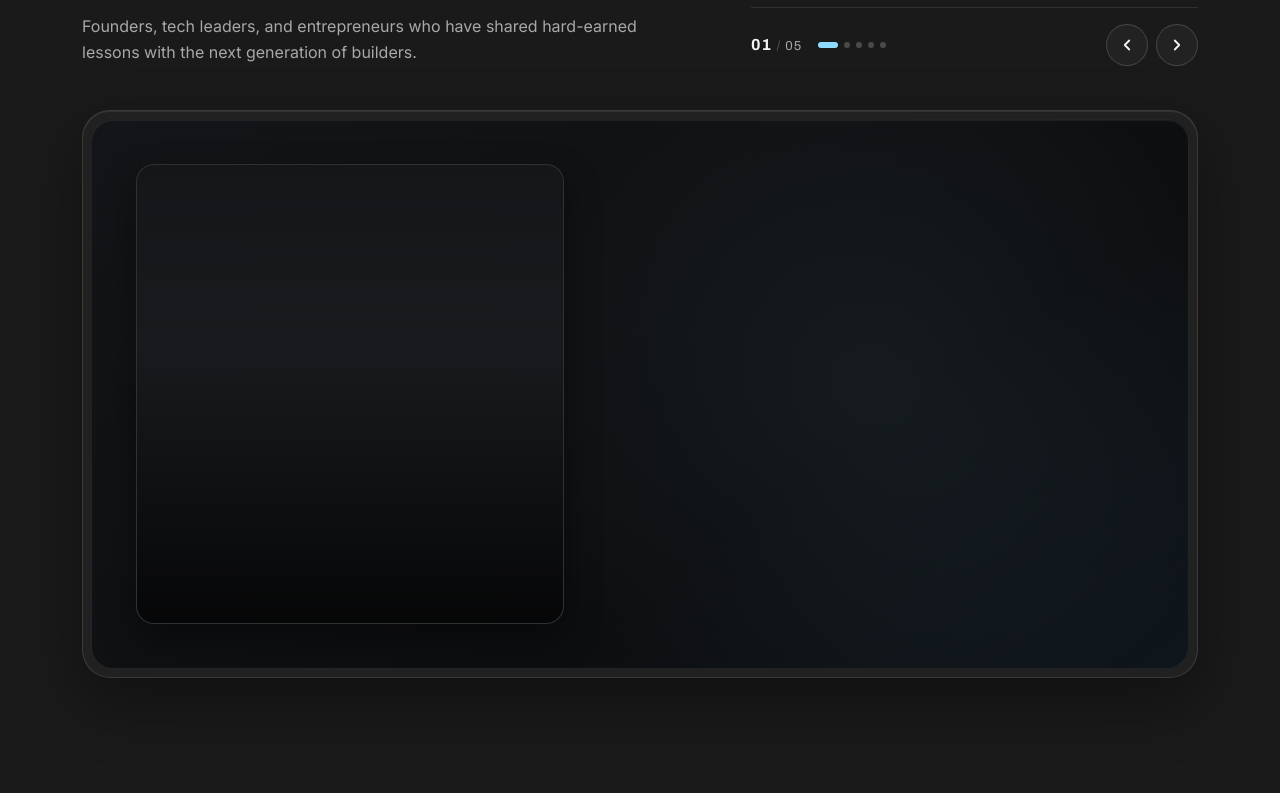
Test: Speakers Section › navigates using touch swipe on mobile showcase card
The image size is (1280, 793).
(page scrolled)
Press the mouse on the element with class "speakers-showcase-container" at x=640, y=394, box left=82, top=110, right=1198, bottom=678
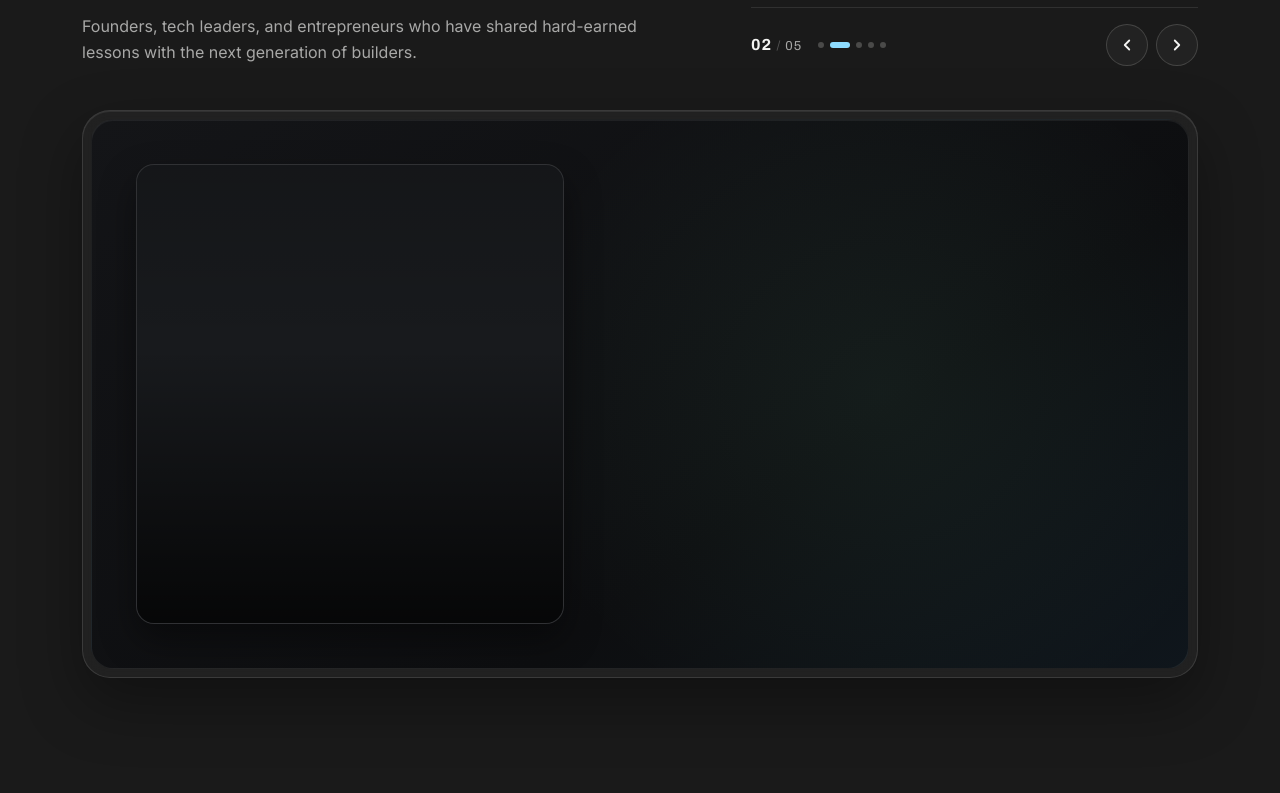
Press the mouse on the element with class "speakers-showcase-container" at x=640, y=394, box left=82, top=110, right=1198, bottom=678
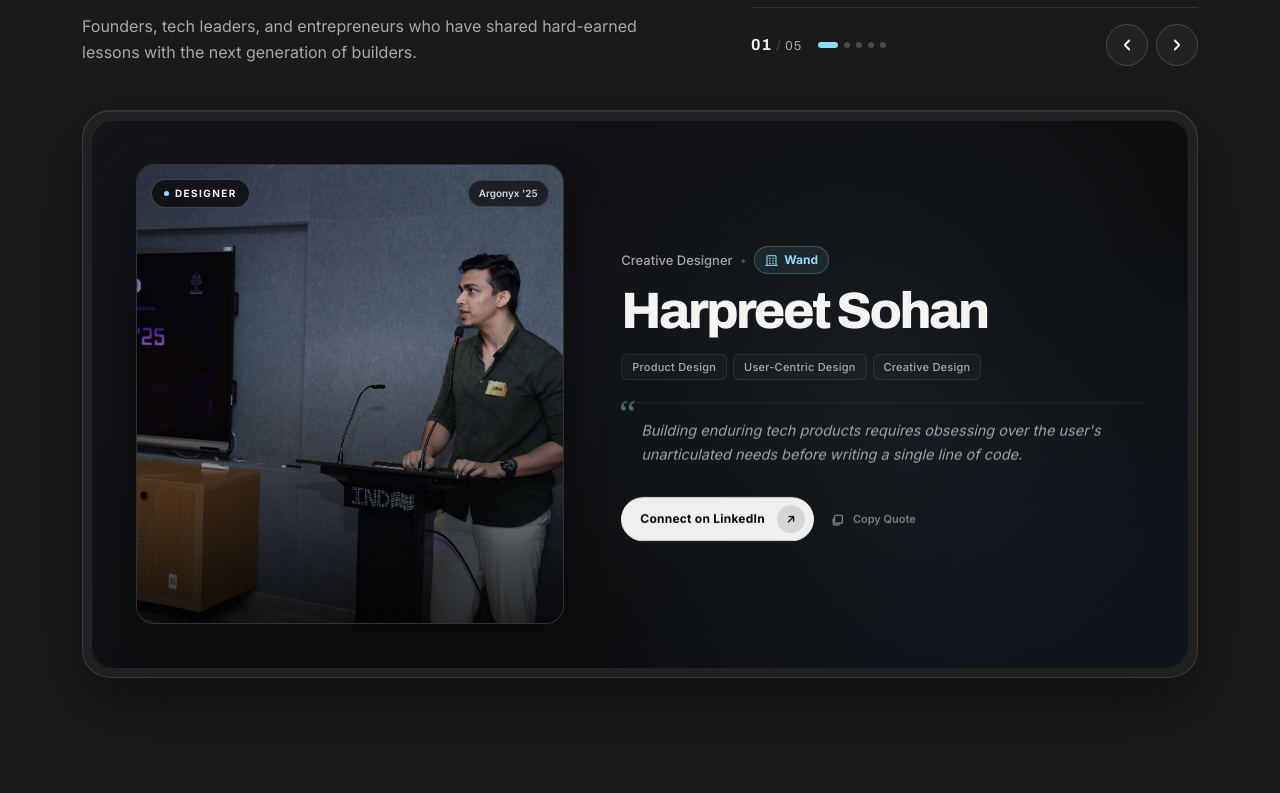
Now the heading "Harpreet Sohan" is shown, box left=621, top=286, right=988, bottom=338
